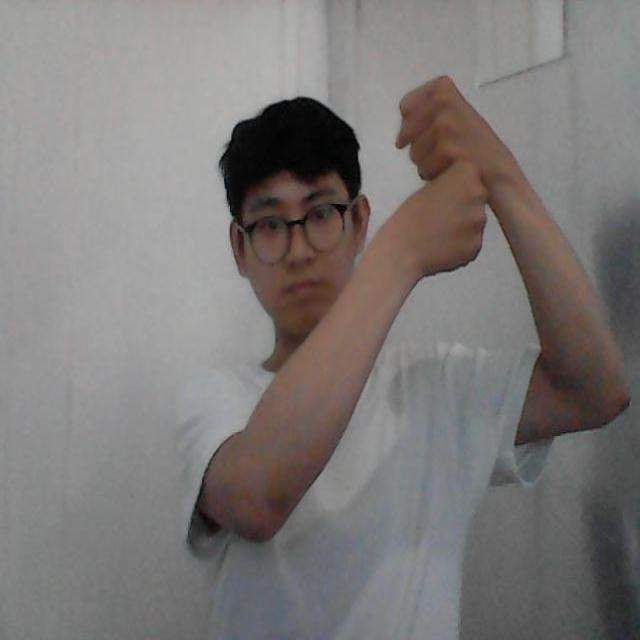G: (386, 64, 500, 278)
